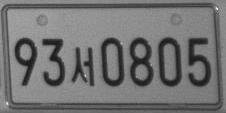0: (157, 36, 182, 87), (100, 36, 125, 86)
3: (42, 38, 66, 87)
5: (186, 37, 212, 87)
8: (129, 36, 154, 86)
9: (13, 36, 37, 86)
서: (71, 47, 94, 86)
